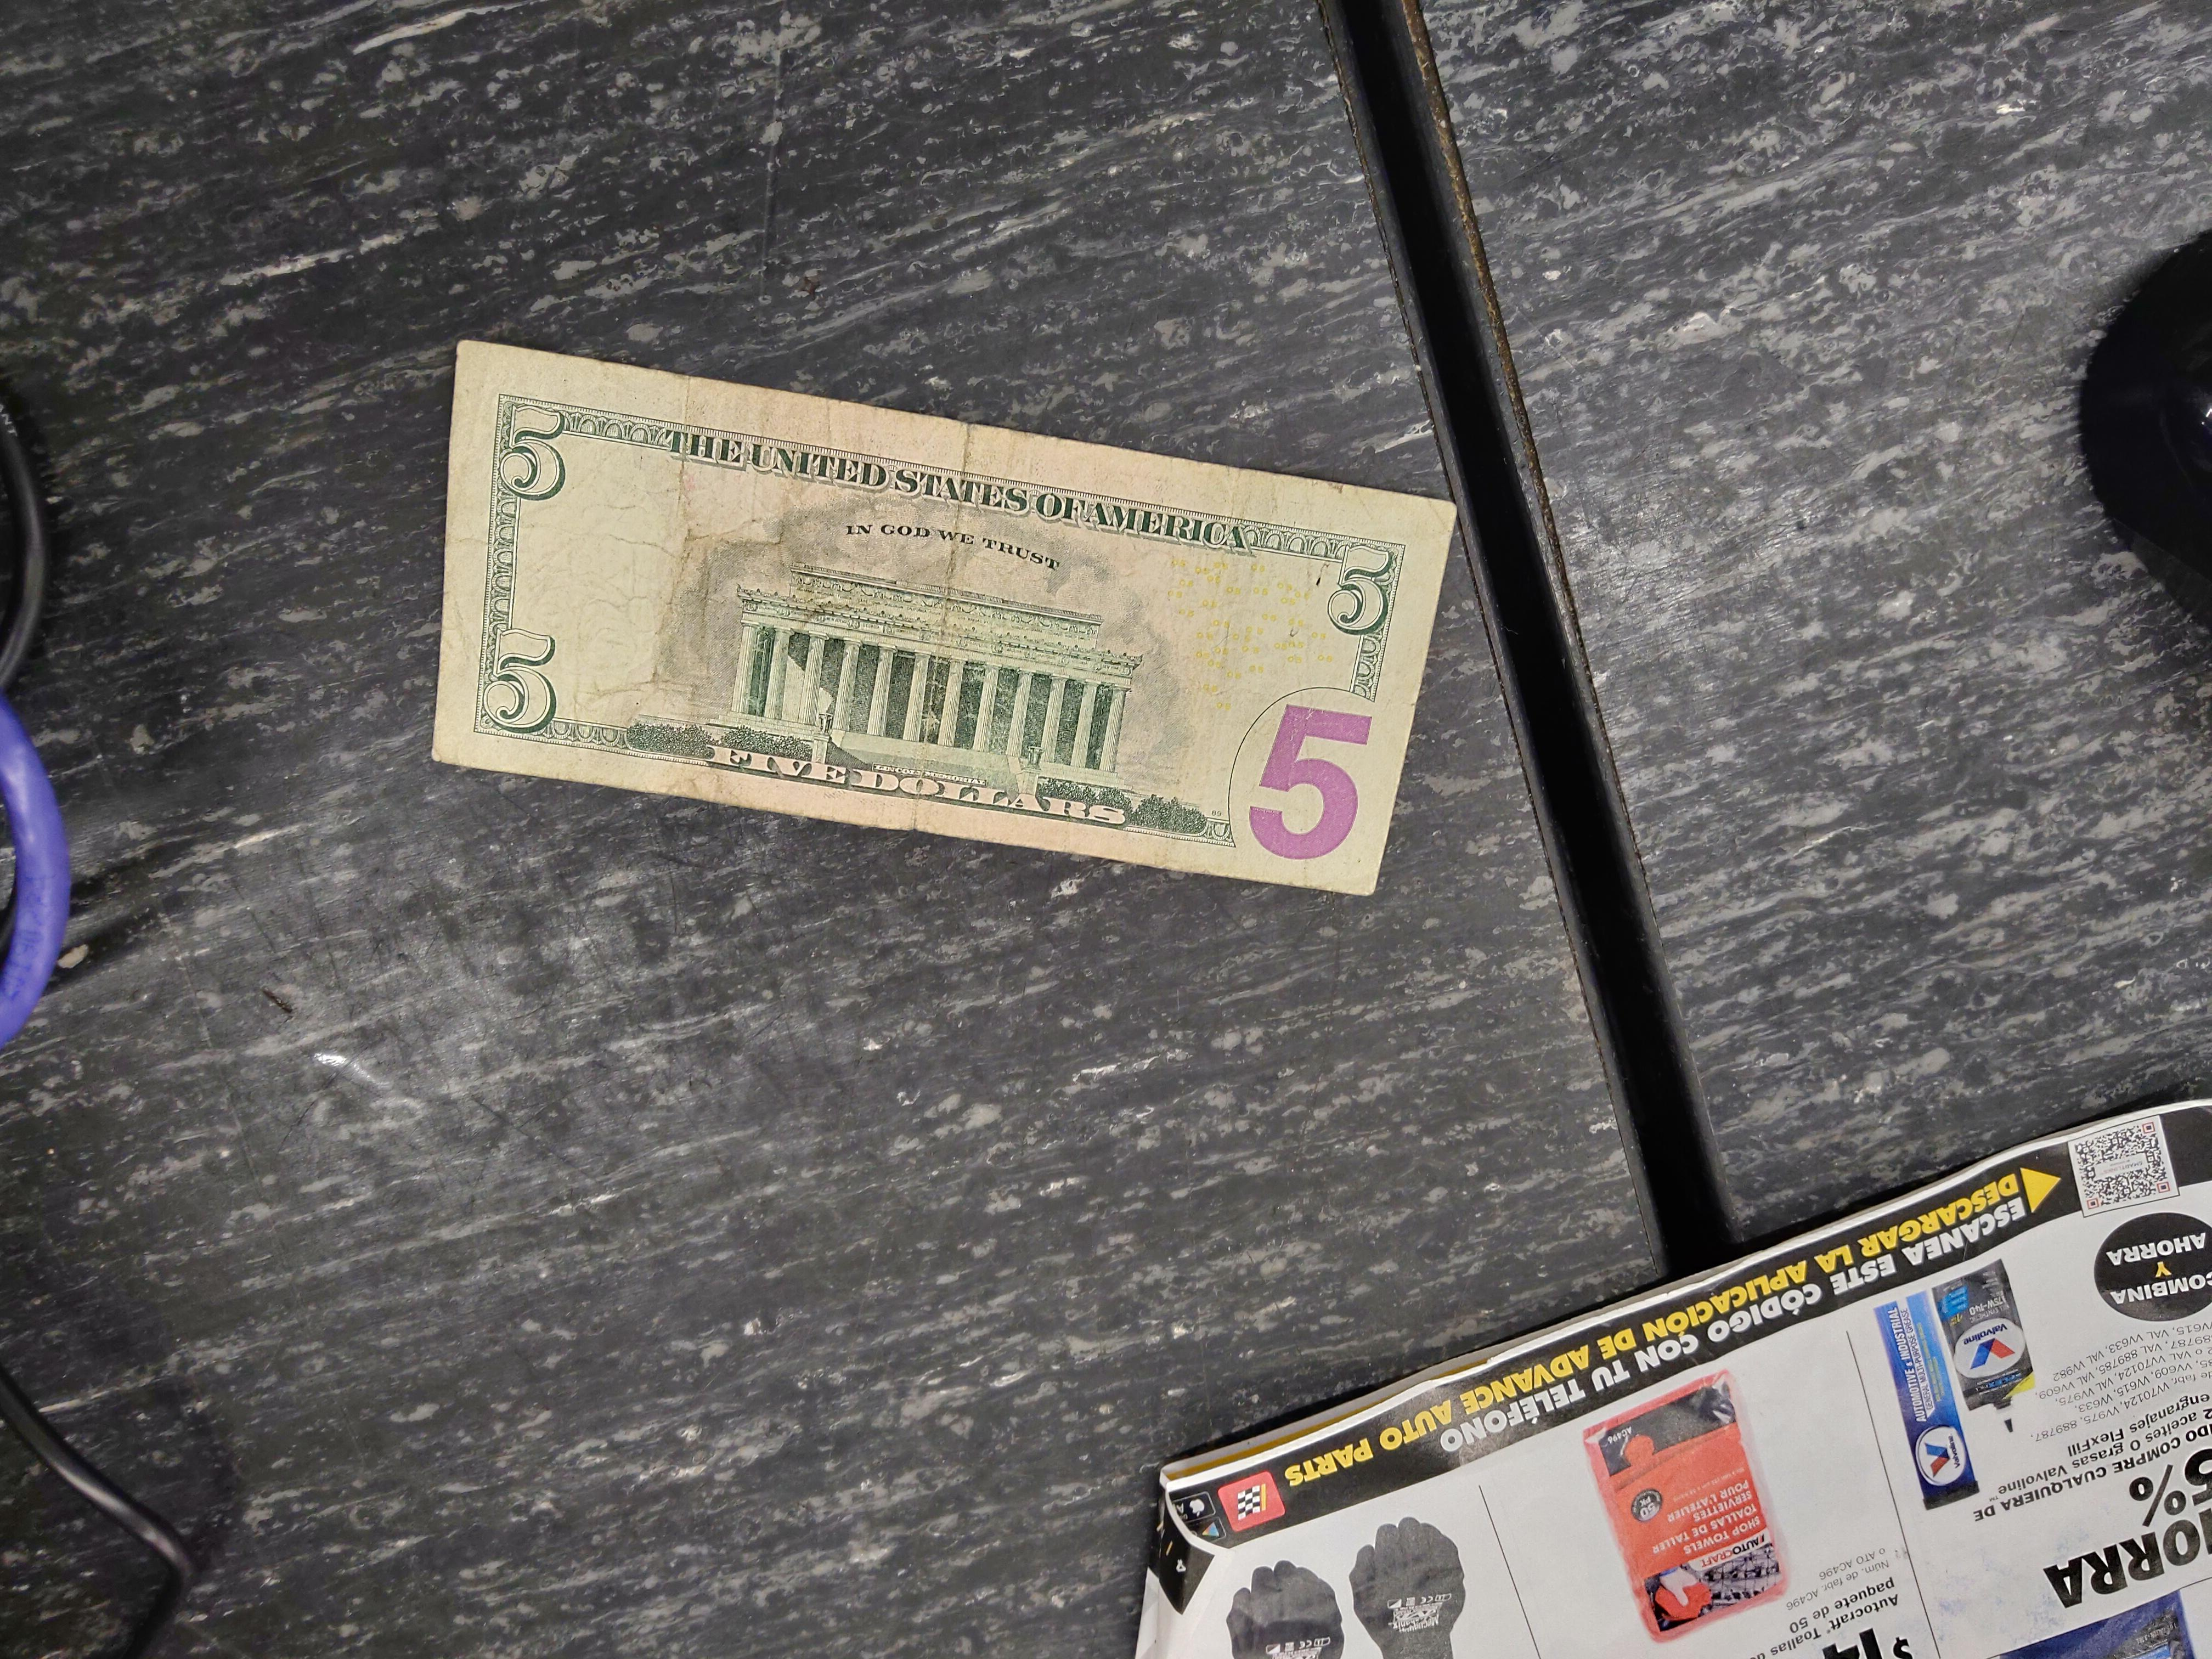FiveBill: (428, 335, 1461, 896)
